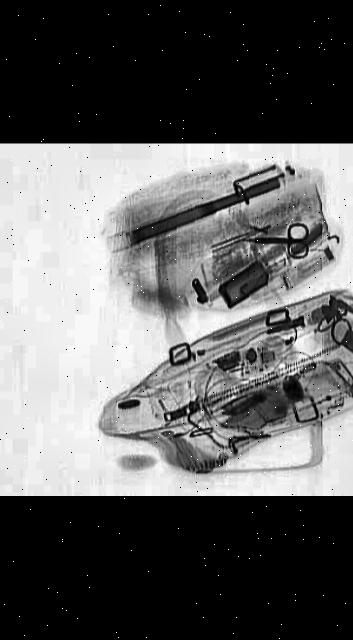Scissors: (239, 222, 308, 258)
